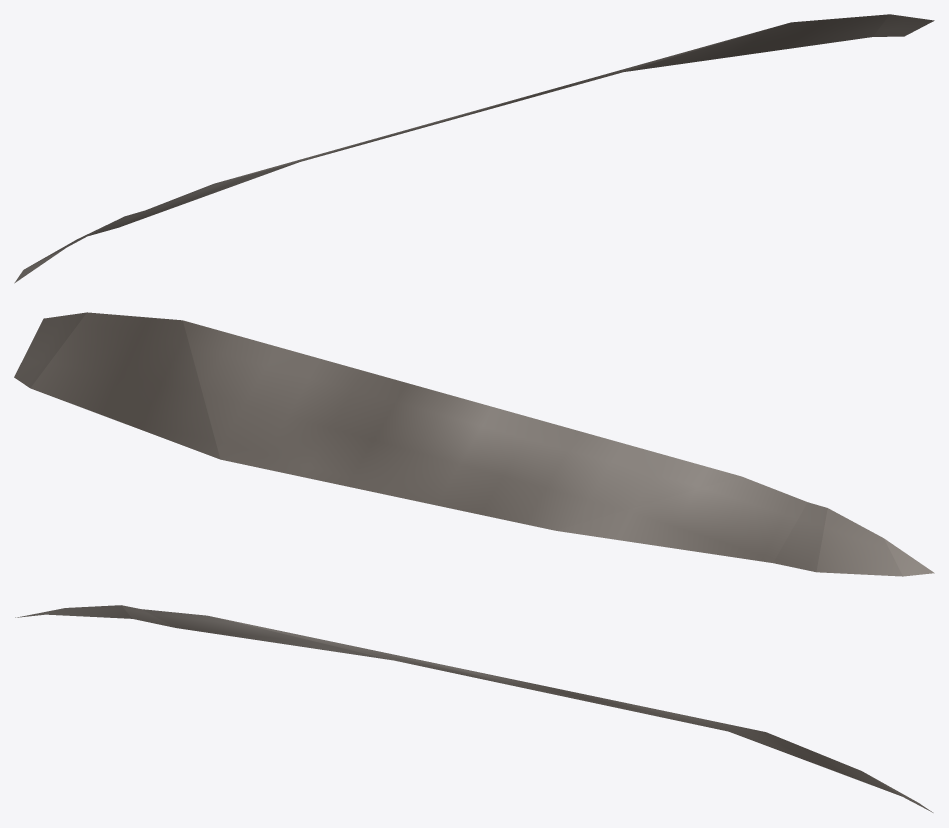
3 renders of one model, top to bottom at view 1: azimuth 30°, elevation 25°; view 2: azimuth 150°, elevation 25°; view 3: azimuth 330°, elevation 25°, orthographic. The views are drawn at different scales.
Size of the model in its own units: 0.0664 by 0.00494 by 0.00803.
Materials: 1 (1 with a texture image).
